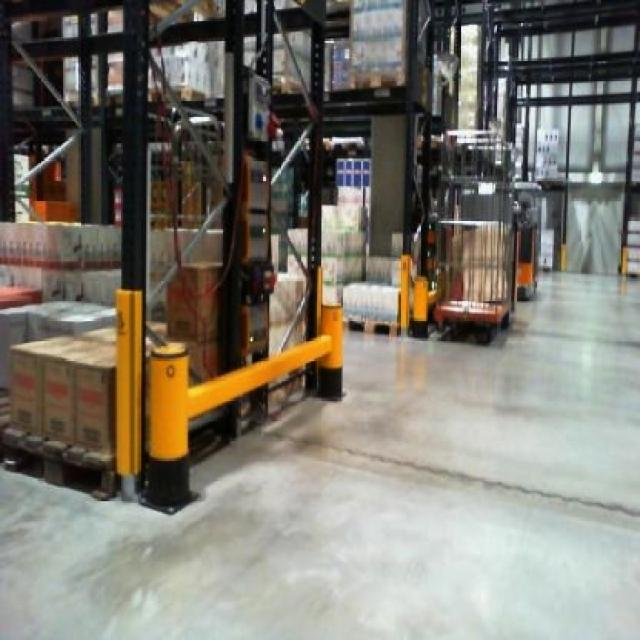floor: (0, 272, 637, 637)
pallets: (9, 329, 111, 452)
